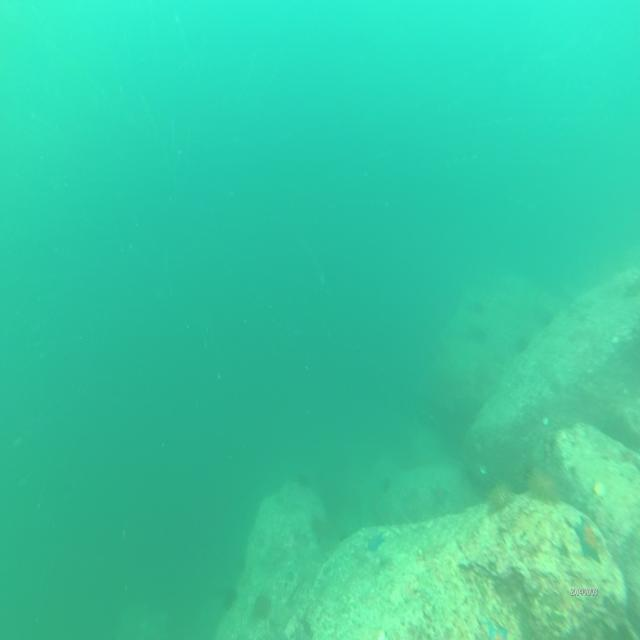echinus: (524, 460, 562, 509), (485, 476, 513, 515), (252, 593, 272, 619)
starfish: (576, 517, 606, 566), (488, 616, 510, 640), (365, 532, 386, 554)
